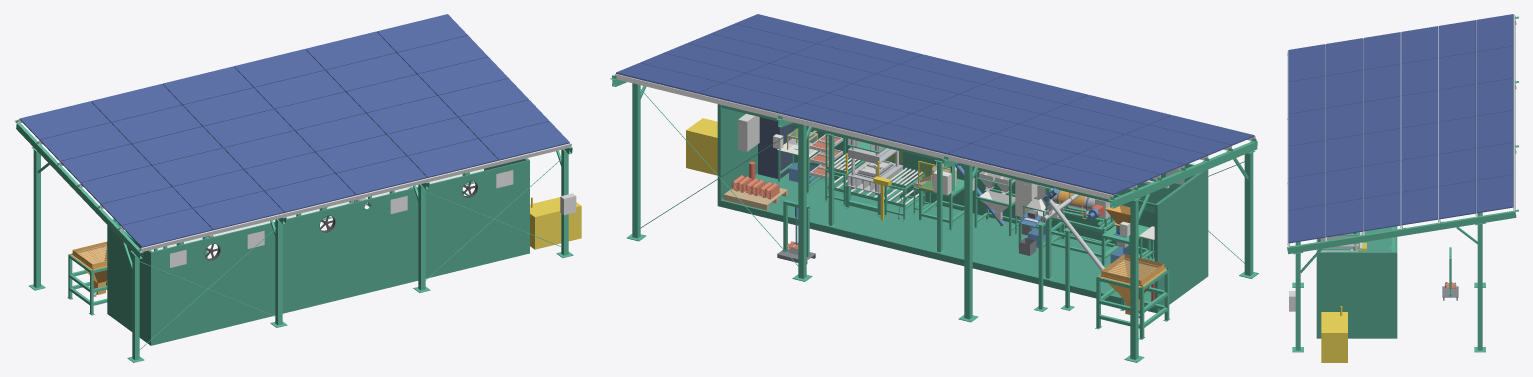
The model's file is plant.glb.
3 renders of one model, left to right at view 1: azimuth 30°, elevation 25°; view 2: azimuth 150°, elevation 25°; view 3: azimuth 270°, elevation 25°, orthographic. The views are drawn at different scales.
Visible parts, largest first — view 1: CT/CT-001#0, SC/SC-401#1008, SC/SC-401#1010, SC/SC-401#1012, SC/SC-401#1009, SC/SC-401#1013, SC/SC-401#1011, SC/SC-401#1014, SC/SC-401#1026, SC/SC-401#1032, SC/SC-401#1038, SC/SC-401#1020 (+36 smaller); view 2: CT/CT-001#0, EL/EL-004#922, SC/SC-101#923, EL/EL-001#919, SC/SC-401#1038, SC/SC-401#1041, SC/SC-401#1039, SC/SC-401#1042, SC/SC-401#1040, SC/SC-401#1043, SC/SC-112#929, SC/SC-112#938 (+42 smaller); view 3: CT/CT-001#0, SC/SC-101#950, EL/EL-004#922, SC/SC-401#1031, SC/SC-401#1013, SC/SC-401#1019, SC/SC-401#1043, SC/SC-401#1025, SC/SC-401#1024, SC/SC-401#1008, SC/SC-401#1010, SC/SC-401#1011 (+31 smaller).
Boxes of the visible parts, left/top/right/bottom form: CT/CT-001#0: left=107, top=158, right=529, bottom=345; SC/SC-401#1008: left=121, top=208, right=212, bottom=247; SC/SC-401#1010: left=264, top=173, right=355, bottom=212; SC/SC-401#1012: left=407, top=138, right=498, bottom=177; SC/SC-401#1009: left=193, top=191, right=283, bottom=230; SC/SC-401#1013: left=479, top=121, right=569, bottom=160; SC/SC-401#1011: left=336, top=156, right=426, bottom=195; SC/SC-401#1014: left=101, top=187, right=192, bottom=226; SC/SC-401#1026: left=60, top=144, right=151, bottom=183; SC/SC-401#1032: left=40, top=122, right=130, bottom=161; SC/SC-401#1038: left=19, top=101, right=110, bottom=140; SC/SC-401#1020: left=81, top=165, right=171, bottom=204; CT/CT-001#0: left=717, top=104, right=1208, bottom=312; EL/EL-004#922: left=686, top=118, right=717, bottom=175; SC/SC-101#923: left=1110, top=141, right=1257, bottom=208; EL/EL-001#919: left=758, top=117, right=791, bottom=178; SC/SC-401#1038: left=1030, top=164, right=1136, bottom=194; SC/SC-401#1041: left=782, top=103, right=887, bottom=134; SC/SC-401#1039: left=947, top=144, right=1052, bottom=174; SC/SC-401#1042: left=699, top=83, right=804, bottom=113; SC/SC-401#1040: left=865, top=123, right=969, bottom=154; SC/SC-401#1043: left=616, top=63, right=721, bottom=93; SC/SC-112#929: left=1130, top=200, right=1138, bottom=359; SC/SC-112#938: left=964, top=164, right=972, bottom=319; CT/CT-001#0: left=1316, top=226, right=1397, bottom=338; SC/SC-101#950: left=1287, top=210, right=1516, bottom=254; EL/EL-004#922: left=1321, top=306, right=1347, bottom=362; SC/SC-401#1031: left=1401, top=186, right=1438, bottom=225; SC/SC-401#1013: left=1288, top=205, right=1325, bottom=243; SC/SC-401#1019: left=1326, top=198, right=1363, bottom=237; SC/SC-401#1043: left=1476, top=175, right=1513, bottom=213; SC/SC-401#1025: left=1363, top=192, right=1400, bottom=231; SC/SC-401#1024: left=1363, top=160, right=1400, bottom=198; SC/SC-401#1008: left=1288, top=44, right=1325, bottom=81; SC/SC-401#1010: left=1288, top=108, right=1325, bottom=146; SC/SC-401#1011: left=1288, top=140, right=1325, bottom=178.
Bounding box in the file's own units: 14.91 × 4.77 × 7.
